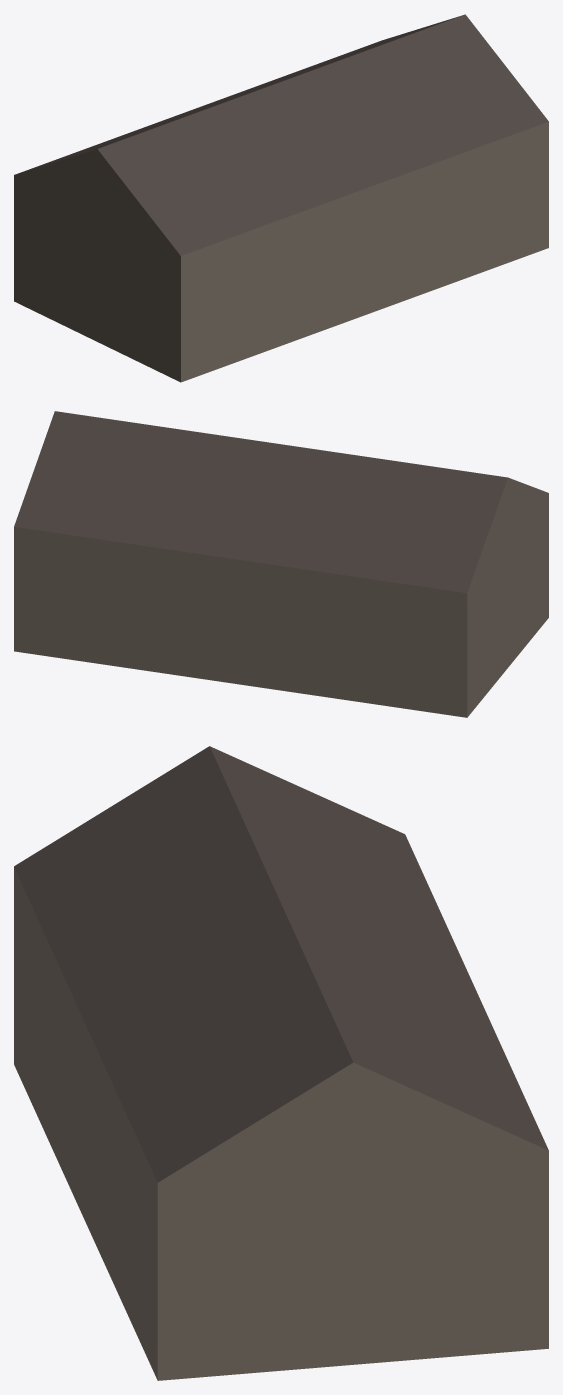
The picture shows the model from 3 angles, top to bottom: view 1: azimuth 30°, elevation 25°; view 2: azimuth 150°, elevation 25°; view 3: azimuth 270°, elevation 25°; orthographic projection. The views are drawn at different scales.
Parts seen in each view (by area): view 1: HP-w760475723; view 2: HP-w760475723; view 3: HP-w760475723.
Boxes of the visible parts, left/top/right/bottom form: HP-w760475723: left=14, top=14, right=548, bottom=382; HP-w760475723: left=14, top=411, right=548, bottom=717; HP-w760475723: left=14, top=746, right=548, bottom=1380.
Bounding box in the file's own units: 22.65 × 9.16 × 14.69.
